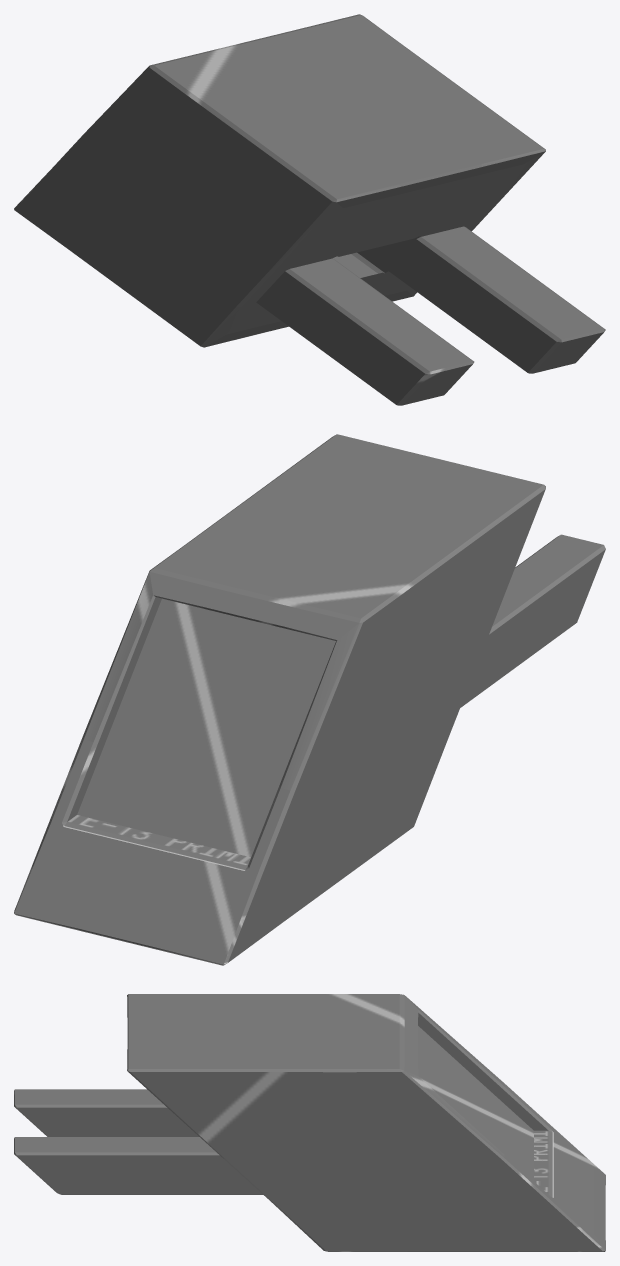
File: FSR-S5-Ammo-Counter.obj
The picture shows the model from 3 angles, top to bottom: view 1: azimuth 30°, elevation 25°; view 2: azimuth 150°, elevation 25°; view 3: azimuth 270°, elevation 25°; orthographic projection. The views are drawn at different scales.
Parts seen in each view (by area): view 1: FSR-S5-Ammo-Counter; view 2: FSR-S5-Ammo-Counter; view 3: FSR-S5-Ammo-Counter.
Boxes of the visible parts, x1,y1,x2,y2 form: FSR-S5-Ammo-Counter: [14, 14, 605, 405]; FSR-S5-Ammo-Counter: [14, 434, 605, 965]; FSR-S5-Ammo-Counter: [14, 994, 605, 1251].
Size of the model in its own units: 0.65 by 0.7167 by 2.1.
